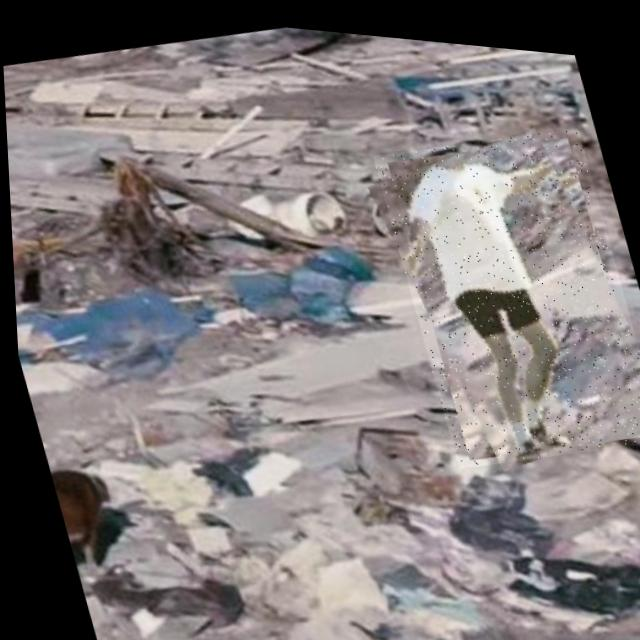Person in Rubble: (369, 101, 640, 475)
